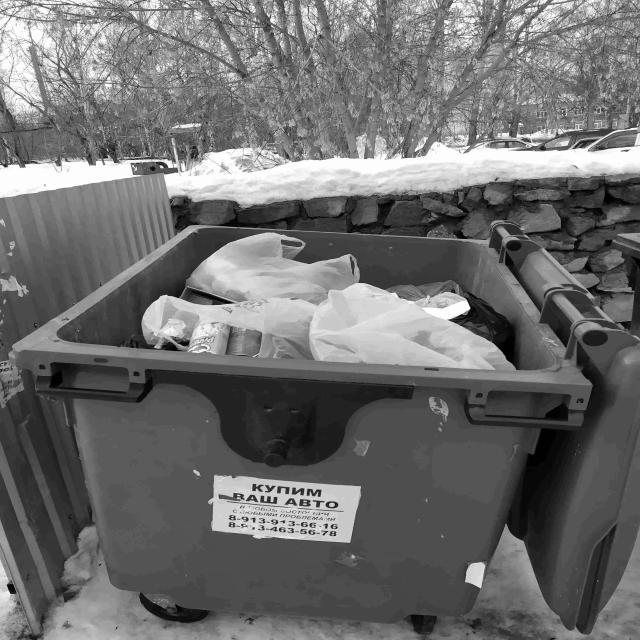bin: (7, 221, 640, 636)
trash: (141, 233, 516, 370)
